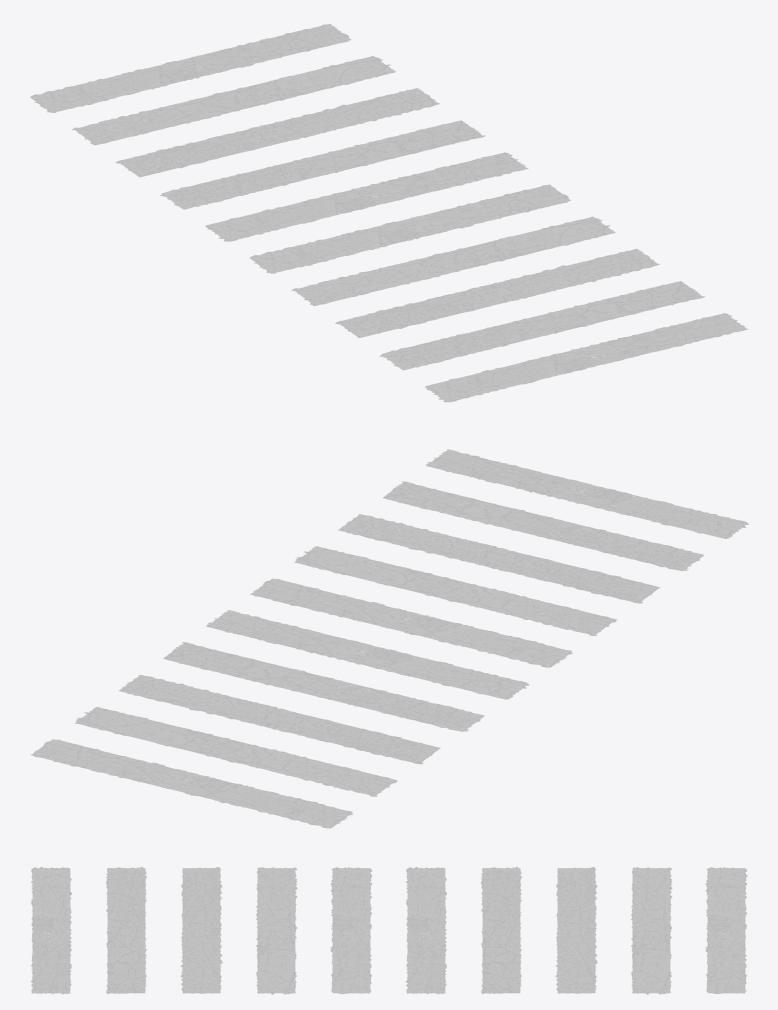
Rendered from Decal_Crosswalk_Wide.glb.
The picture shows the model from 3 angles, top to bottom: view 1: azimuth 30°, elevation 25°; view 2: azimuth 150°, elevation 25°; view 3: azimuth 270°, elevation 25°; orthographic projection. The views are drawn at different scales.
Visible parts, largest first — view 1: Decal_Crosswalk_Wide; view 2: Decal_Crosswalk_Wide; view 3: Decal_Crosswalk_Wide.
Boxes of the visible parts, x1=… form: Decal_Crosswalk_Wide: x1=30, y1=24, x2=747, y2=402; Decal_Crosswalk_Wide: x1=31, y1=449, x2=748, y2=828; Decal_Crosswalk_Wide: x1=31, y1=867, x2=746, y2=994.
Bounding box in the file's own units: 4.67 × 0 × 11.42.
Materials: 1 (1 with a texture image).
